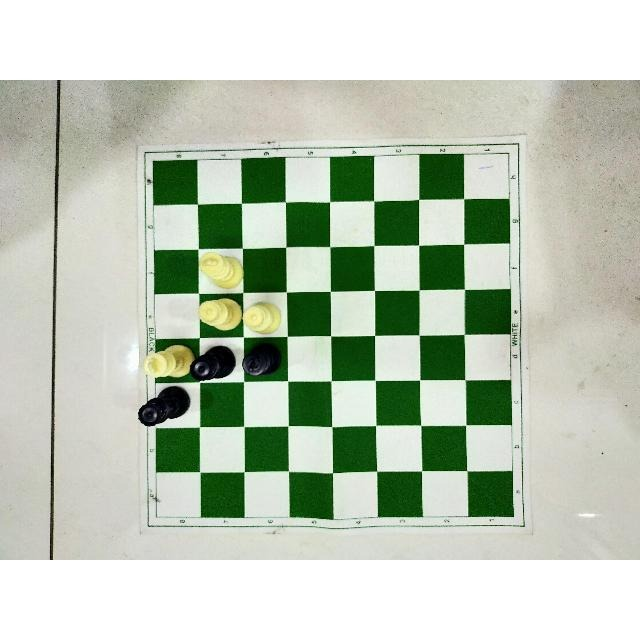black-king: (242, 339, 284, 378)
black-queen: (138, 386, 189, 428), (188, 345, 235, 383)
white-king: (140, 345, 194, 381), (198, 250, 244, 286)
white-queen: (192, 293, 242, 335), (240, 299, 282, 337)
